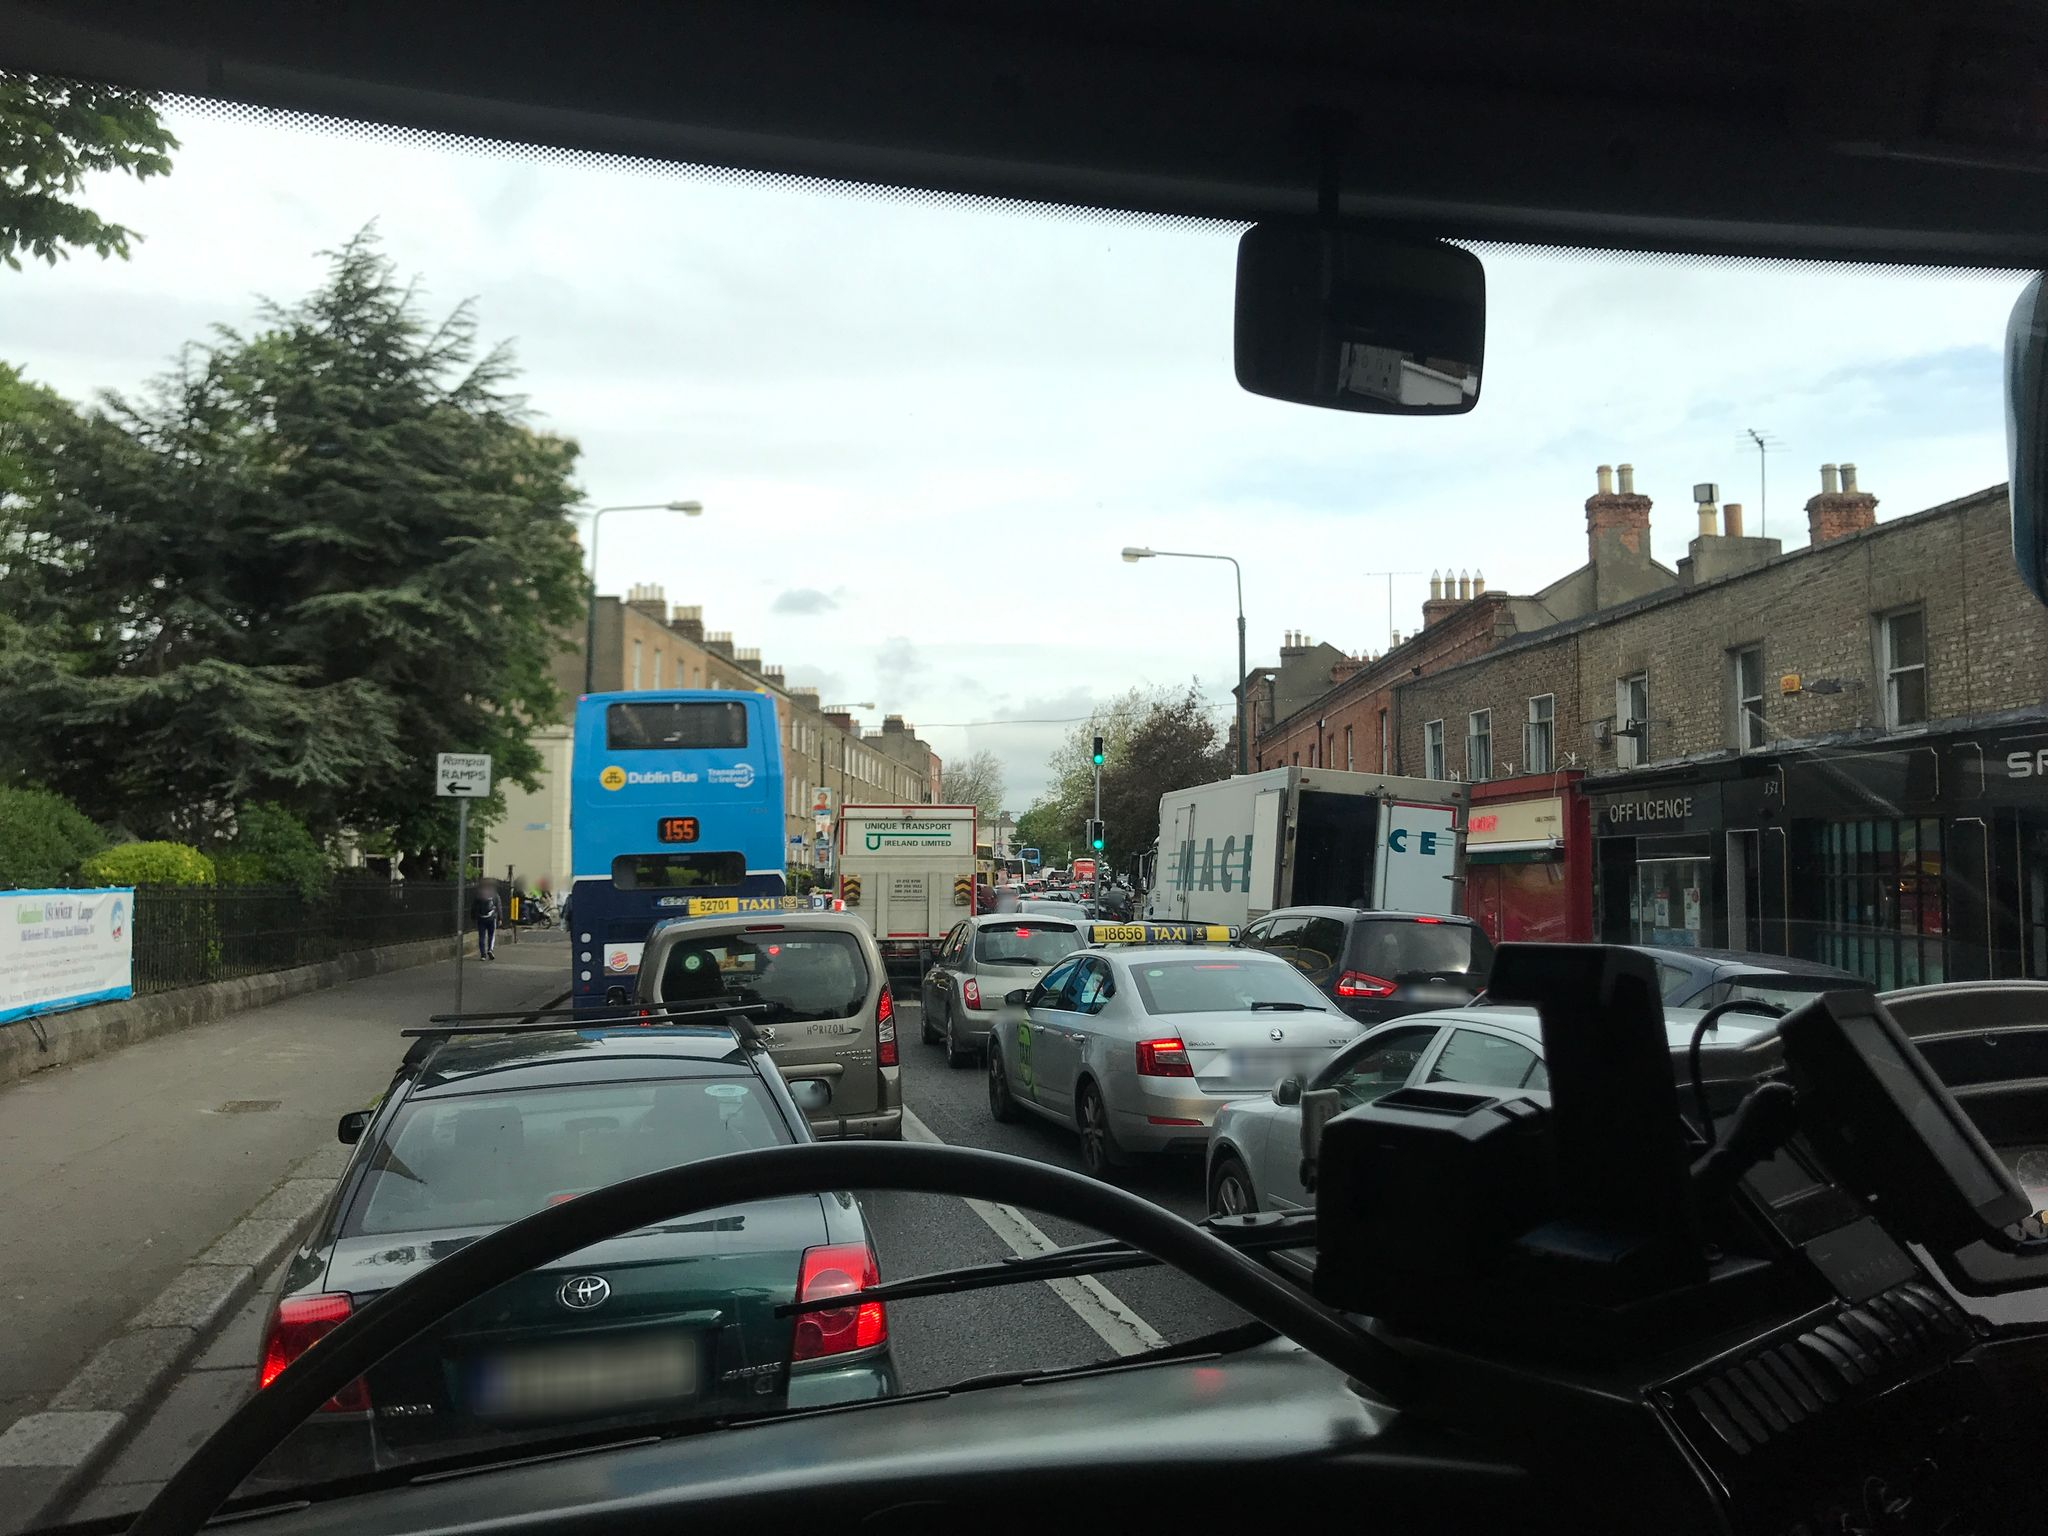vinyl banner: (3, 881, 139, 1026)
